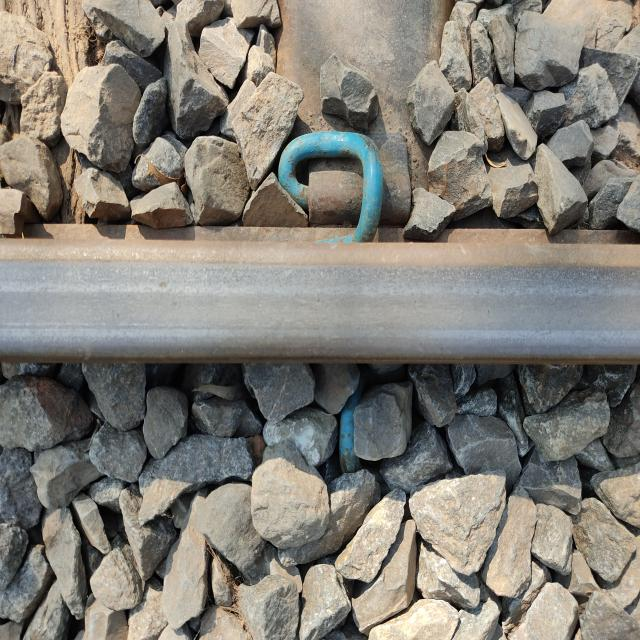Good Fasteners: (268, 81, 401, 243), (339, 371, 365, 473)
